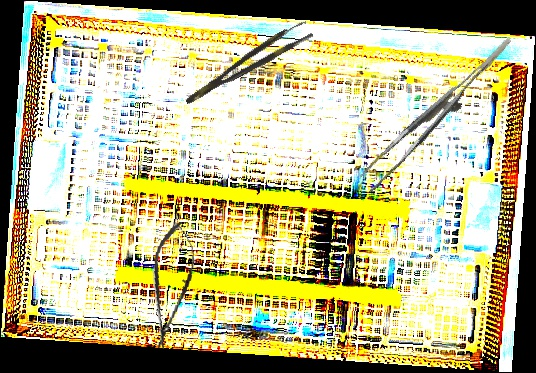Micro Scissor: (140, 219, 202, 352)
Tissue Forceps: (345, 37, 534, 193), (178, 18, 315, 107)
